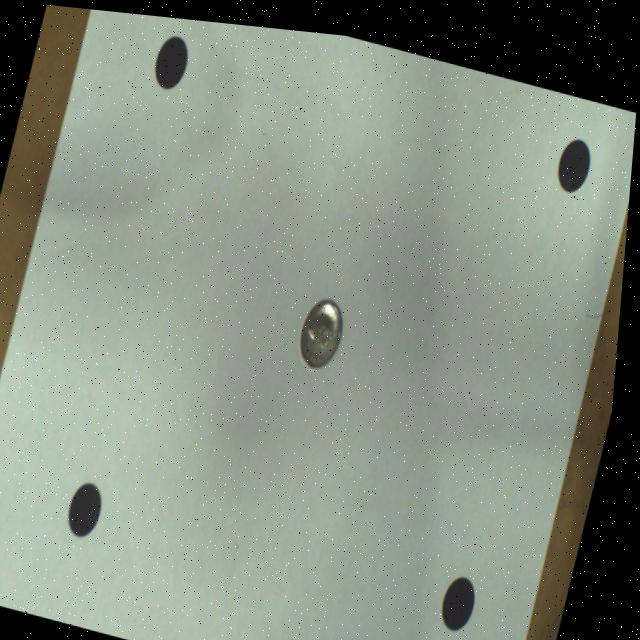space: (451, 566, 484, 621), (77, 480, 110, 535), (156, 32, 189, 86), (560, 127, 592, 181)
tail1bath: (306, 292, 347, 361)
